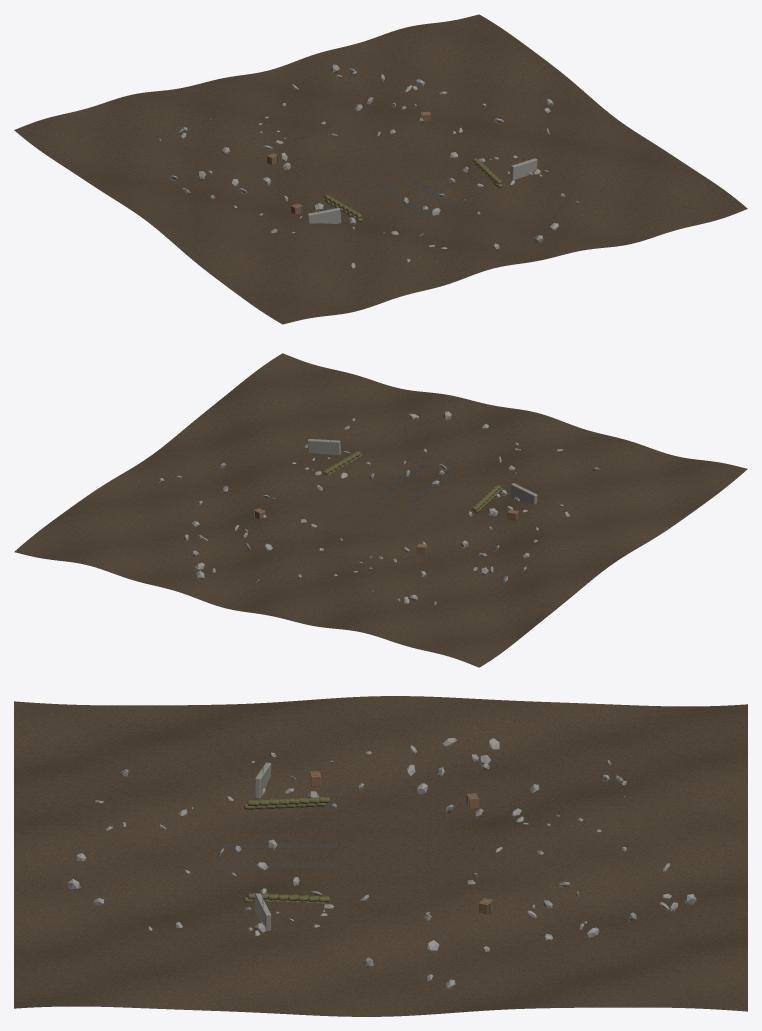
The model's file is Clearing_A.fbx.
3 renders of one model, top to bottom at view 1: azimuth 30°, elevation 25°; view 2: azimuth 150°, elevation 25°; view 3: azimuth 270°, elevation 25°, orthographic. The views are drawn at different scales.
Visible parts, largest first — view 1: Ground_Earth, PerimeterProps_Concrete, PerimeterProps_Armor, Ground_Soot; view 2: Ground_Earth, PerimeterProps_Concrete, PerimeterProps_Armor, Ground_Soot; view 3: Ground_Earth, PerimeterProps_Concrete, PerimeterProps_Armor, Ground_Soot, PerimeterProps_Wood.
Boxes of the visible parts, x1,y1,x2,y2 form: Ground_Earth: (14,14,747,324); PerimeterProps_Concrete: (158,64,578,268); PerimeterProps_Armor: (324,158,502,221); Ground_Soot: (379,176,455,215); Ground_Earth: (14,353,747,667); PerimeterProps_Concrete: (158,411,599,605); PerimeterProps_Armor: (323,451,502,512); Ground_Soot: (379,463,455,502); Ground_Earth: (14,696,747,1016); PerimeterProps_Concrete: (67,737,696,989); PerimeterProps_Armor: (244,797,329,903); Ground_Soot: (222,844,337,867); PerimeterProps_Wood: (310,771,492,914).
Bounding box in the file's own units: 5600 × 303 × 5600.
Materials: 6 (2 with a texture image).
